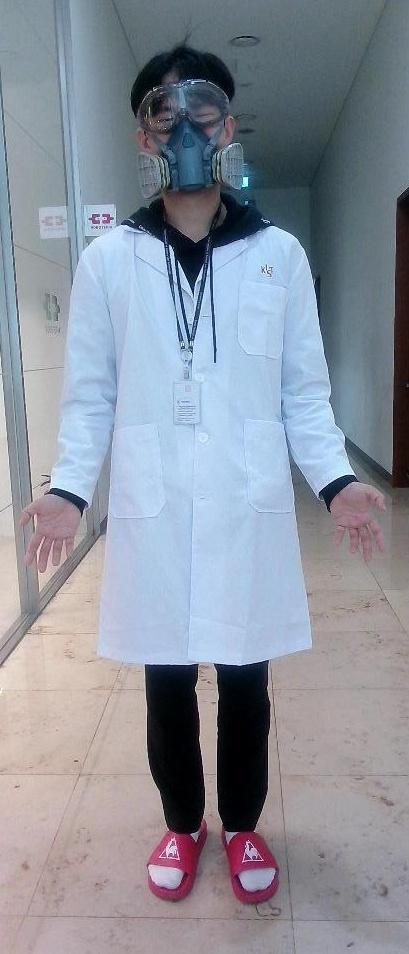lab_coat: (99, 240, 302, 662)
